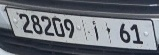0: (52, 17, 66, 37)
1: (129, 24, 145, 45)
2: (40, 15, 53, 36), (19, 12, 30, 34)
6: (117, 21, 131, 43)
8: (31, 14, 42, 35)
9: (64, 19, 75, 38)
a: (90, 19, 100, 42)
